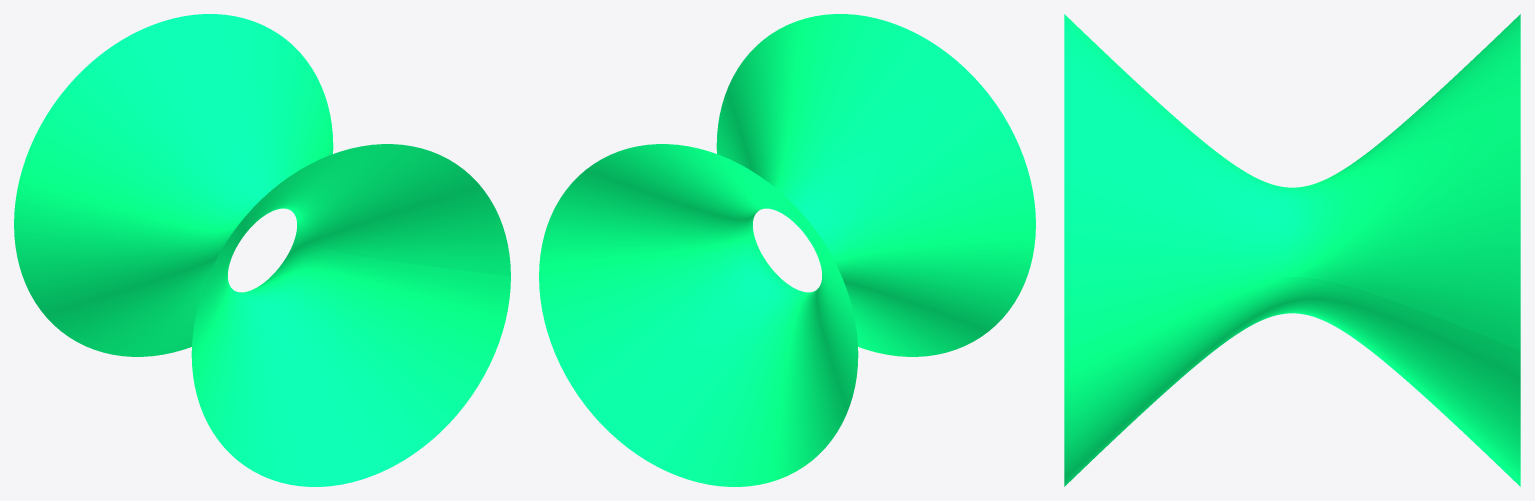
File: hyperboloid_4d_ar_universal.glb
The picture shows the model from 3 angles, left to right: view 1: azimuth 30°, elevation 25°; view 2: azimuth 150°, elevation 25°; view 3: azimuth 270°, elevation 25°; orthographic projection. The views are drawn at different scales.
Parts seen in each view (by area): view 1: hyperboloid_4d_ar; view 2: hyperboloid_4d_ar; view 3: hyperboloid_4d_ar.
Boxes of the visible parts, left/top/right/bottom form: hyperboloid_4d_ar: left=14, top=14, right=510, bottom=486; hyperboloid_4d_ar: left=539, top=14, right=1035, bottom=486; hyperboloid_4d_ar: left=1064, top=14, right=1520, bottom=486.
Bounding box in the file's own units: 1 × 1 × 0.964.
